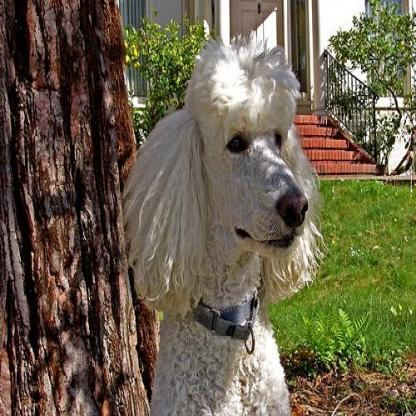standard_poodle: (121, 30, 321, 413)
